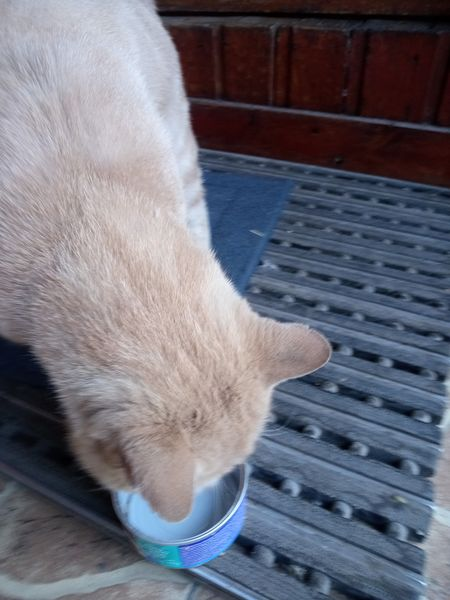cat: (3, 1, 337, 532)
